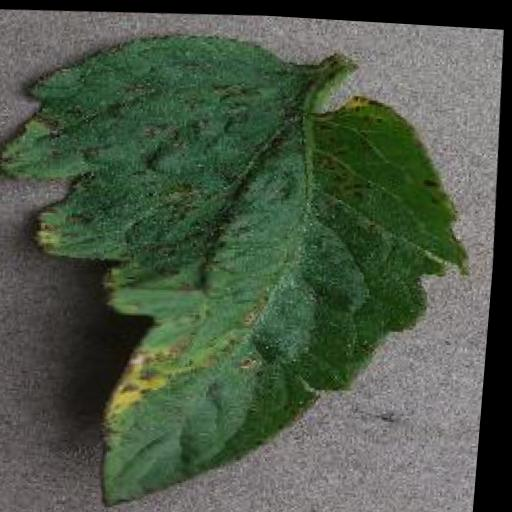Bacterial Spot: (0, 3, 505, 512)
